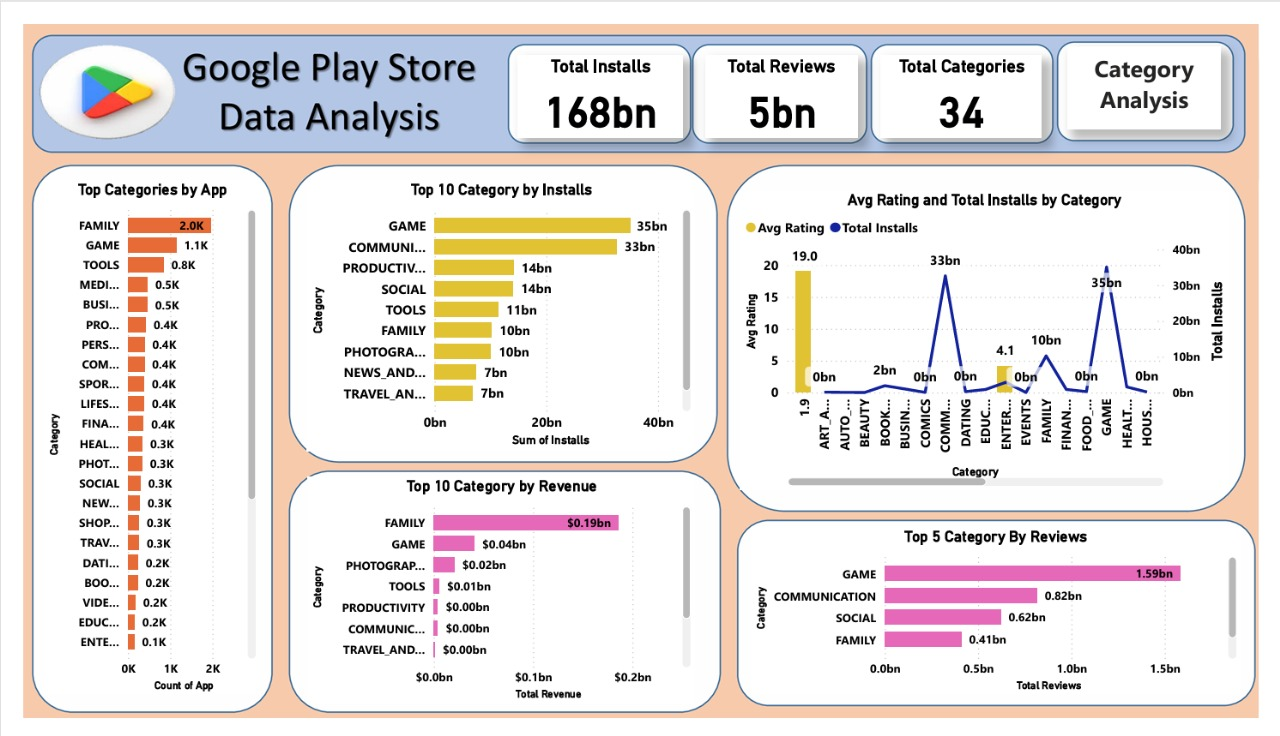

The dashboard page shown, as its layout file describes it:
{"tool":"powerbi","page":{"name":"Category","canvas":[1280,720],"ordinal":0},"visuals":[{"type":"clusteredBarChart","title":"Top Categories by App","fields":{"Category":["googleplaystore.Category"],"Y":["CountNonNull(googleplaystore.App)"]},"box":[20.9,160.7,224.5,535],"z":0},{"type":"clusteredBarChart","title":"Top 10 Category by Installs","fields":{"Category":["googleplaystore.Category"],"Y":["Sum(googleplaystore.Installs)"]},"box":[293.3,160.7,402.5,281],"z":1000},{"type":"clusteredBarChart","title":"Top 10 Category by Revenue","fields":{"Category":["googleplaystore.Category"],"Y":["googleplaystore.Total Revenue"]},"box":[293.7,469.3,402.1,236],"z":2000},{"type":"clusteredBarChart","title":"Top 5 Category By Reviews","fields":{"Category":["googleplaystore.Category"],"Y":["googleplaystore.Total Reviews"]},"box":[753.3,521.4,507.7,174.3],"z":3000},{"type":"lineStackedColumnComboChart","fields":{"Category":["googleplaystore.Category"],"Y":["googleplaystore.Avg Rating"],"Y2":["googleplaystore.Total Installs"]},"box":[742.4,171.5,506.3,311.5],"z":4000},{"type":"card","title":"Total Reviews","fields":{"Values":["googleplaystore.Total Reviews"]},"box":[705.5,31.9,158.3,85.9],"z":5000},{"type":"card","title":"Total Installs","fields":{"Values":["googleplaystore.Total Installs"]},"box":[511.7,31.9,171.8,85.9],"z":6000},{"type":"card","title":"Total Categories","fields":{"Values":["googleplaystore.Total Categories"]},"box":[888.3,31.9,166.9,85.9],"z":7000},{"type":"textbox","box":[1081,23.3,159.5,85.9],"z":8000}]}

Visuals, with their boxes in screenshot pixels (x1, y1, x2, y2), scaled from the page's 1280x720 canvas onto the 1280x736 screenshot:
"Top Categories by App" clusteredBarChart: bbox=[21, 164, 245, 711]
"Top 10 Category by Installs" clusteredBarChart: bbox=[293, 164, 696, 452]
"Top 10 Category by Revenue" clusteredBarChart: bbox=[294, 480, 696, 721]
"Top 5 Category By Reviews" clusteredBarChart: bbox=[753, 533, 1261, 711]
lineStackedColumnComboChart - googleplaystore.Category x googleplaystore.Avg Rating: bbox=[742, 175, 1249, 494]
"Total Reviews" card: bbox=[706, 33, 864, 120]
"Total Installs" card: bbox=[512, 33, 684, 120]
"Total Categories" card: bbox=[888, 33, 1055, 120]
textbox: bbox=[1081, 24, 1240, 112]
